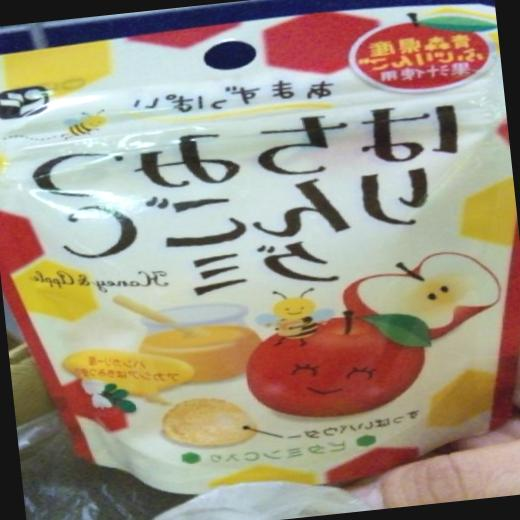Apple: (244, 316, 430, 430), (336, 244, 502, 349)
